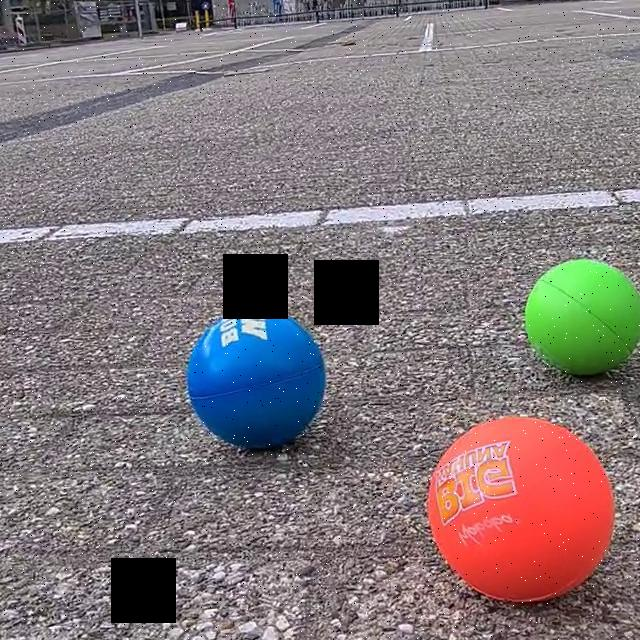ball: (186, 342, 328, 451), (521, 259, 640, 382)
